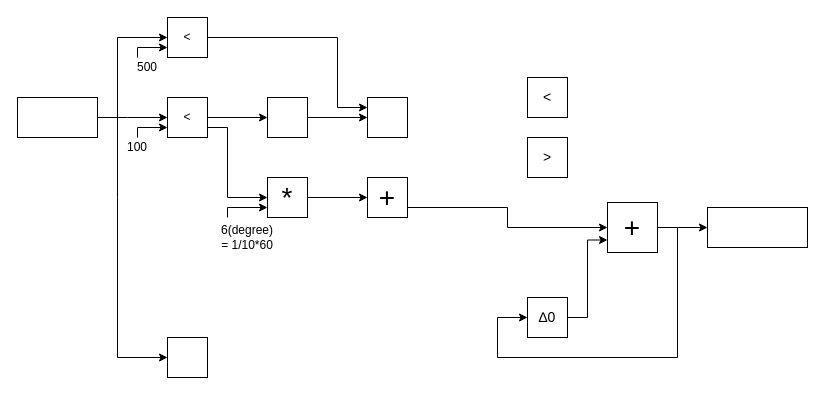
Image size: 825x395. Some labels were removed from this diagram. The shapes that lost their labels are listed below. From the top down, each one's box as (x1, y1, x2, y2) in pixels, then its label:
(16, 96, 98, 138): Sonar Sensor
(266, 96, 308, 138): NOT
(366, 96, 408, 138): AND
(706, 206, 808, 248): Beta Motor
